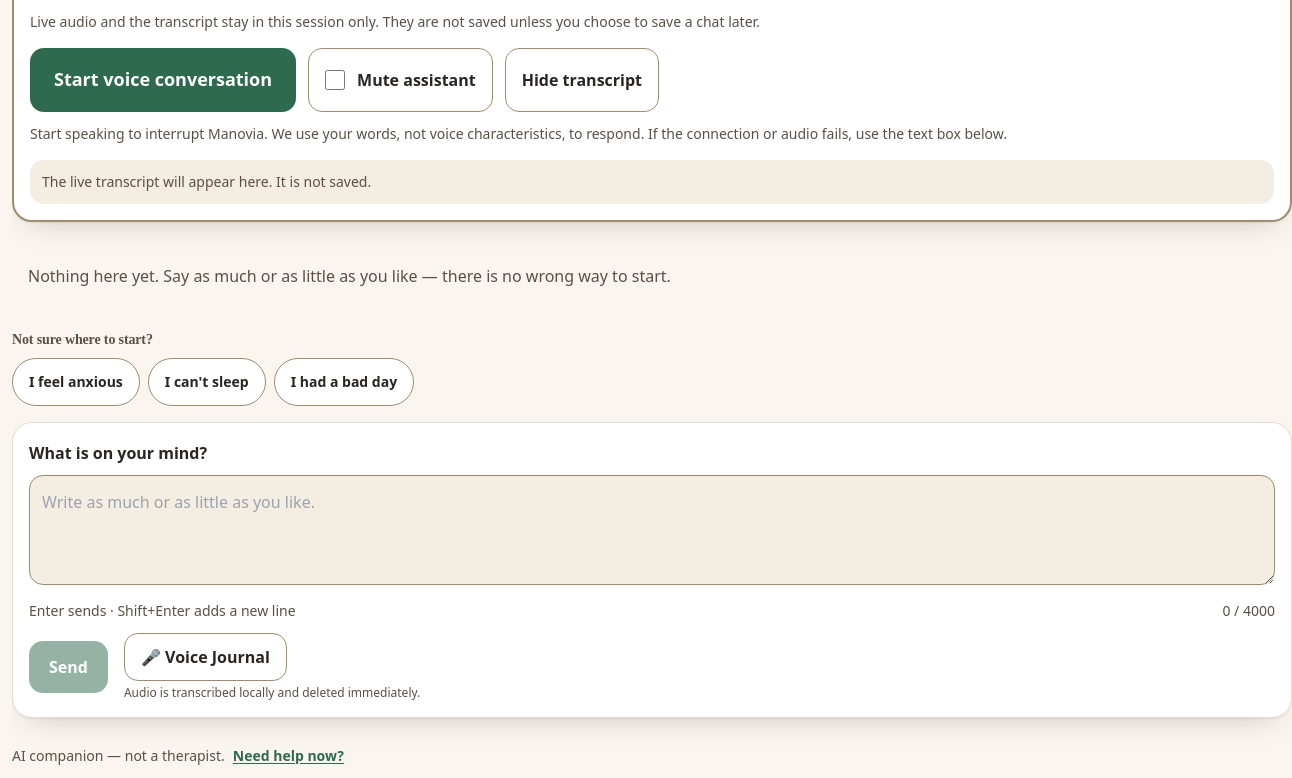
Test: ChatView — streaming › shows a typing indicator before the first token
(page scrolled)
Step 1. Type "hello" into the text box labelled "What is on your mind?" → (652, 530), box x1=29 y1=474 x2=1275 y2=584
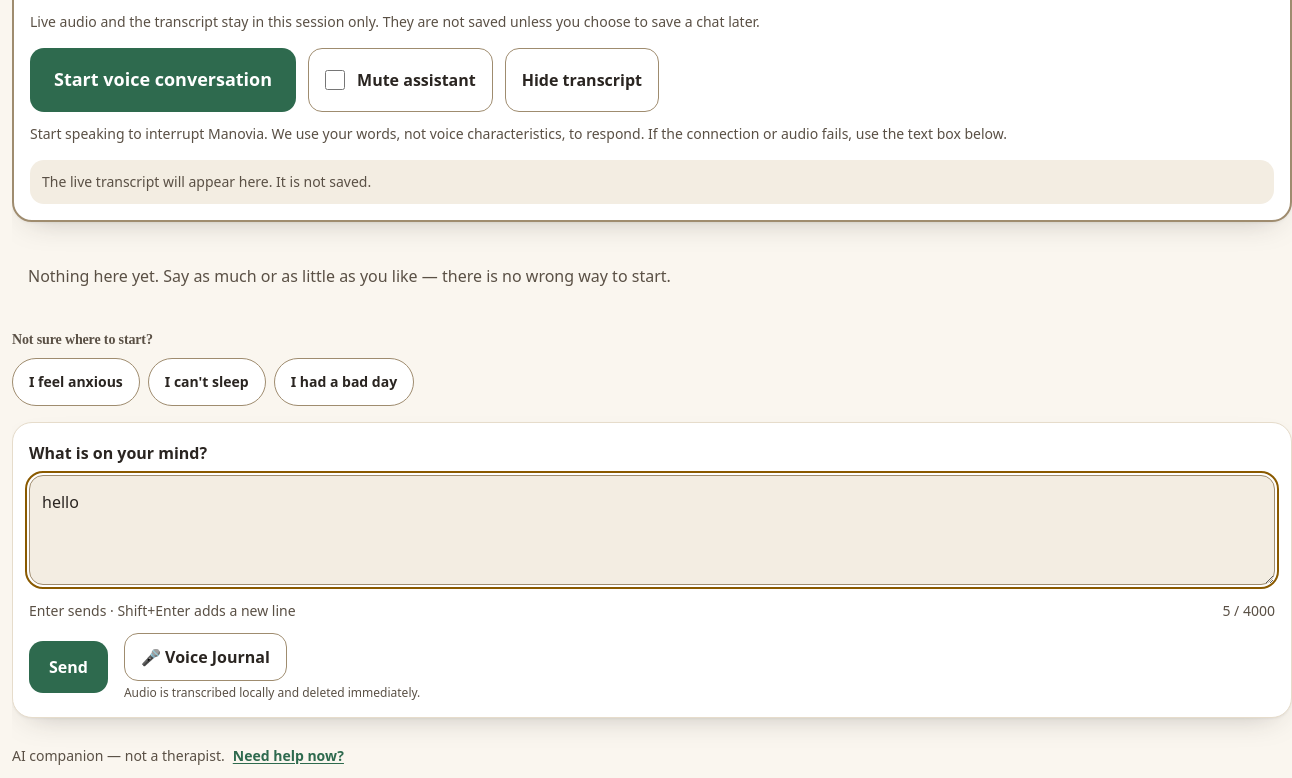
Step 2. Click the button with test id "send-button" → (68, 666), box x1=29 y1=640 x2=108 y2=692
(page scrolled)
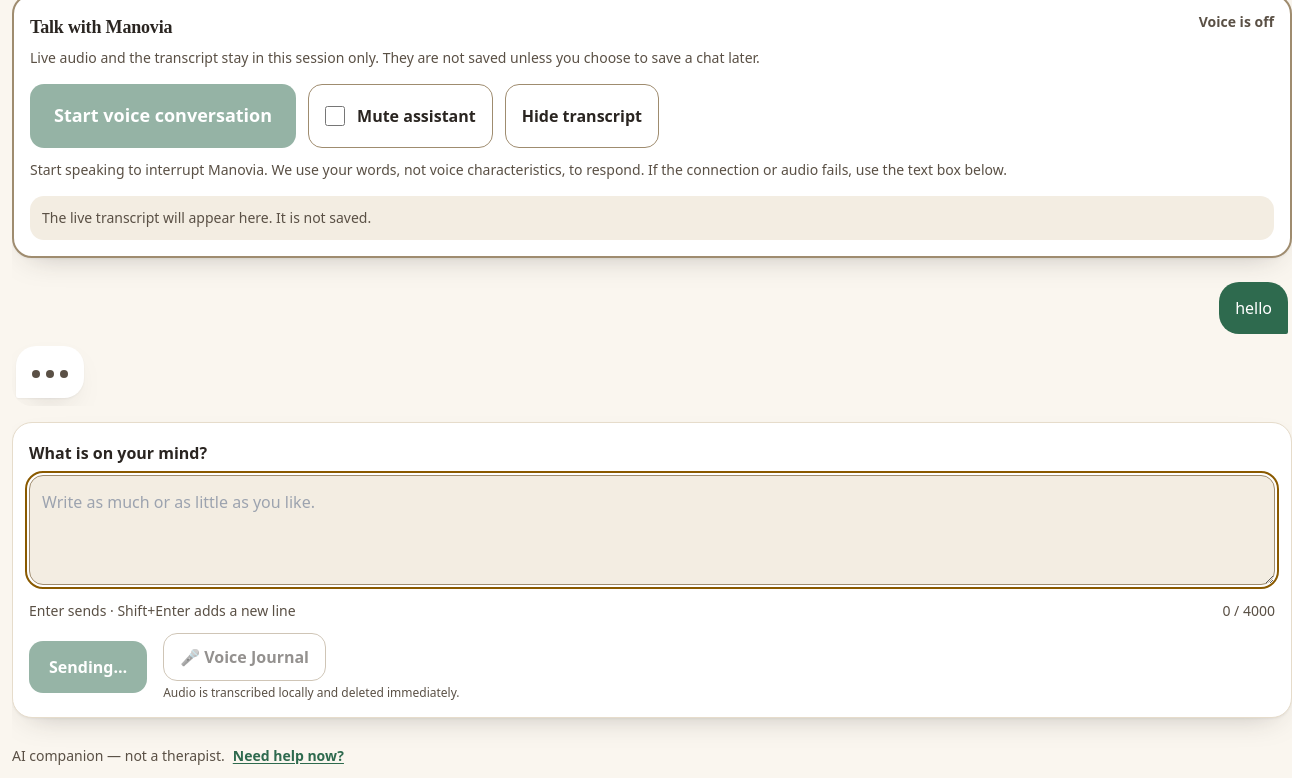
Check: the element with test id "typing-indicator" is shown, box x1=32 y1=370 x2=68 y2=378
Check: the button with test id "send-button" reads "Sending…", box x1=29 y1=640 x2=147 y2=692
